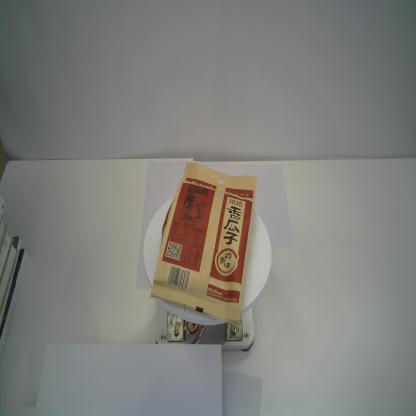Dried Food: (151, 162, 257, 326)
